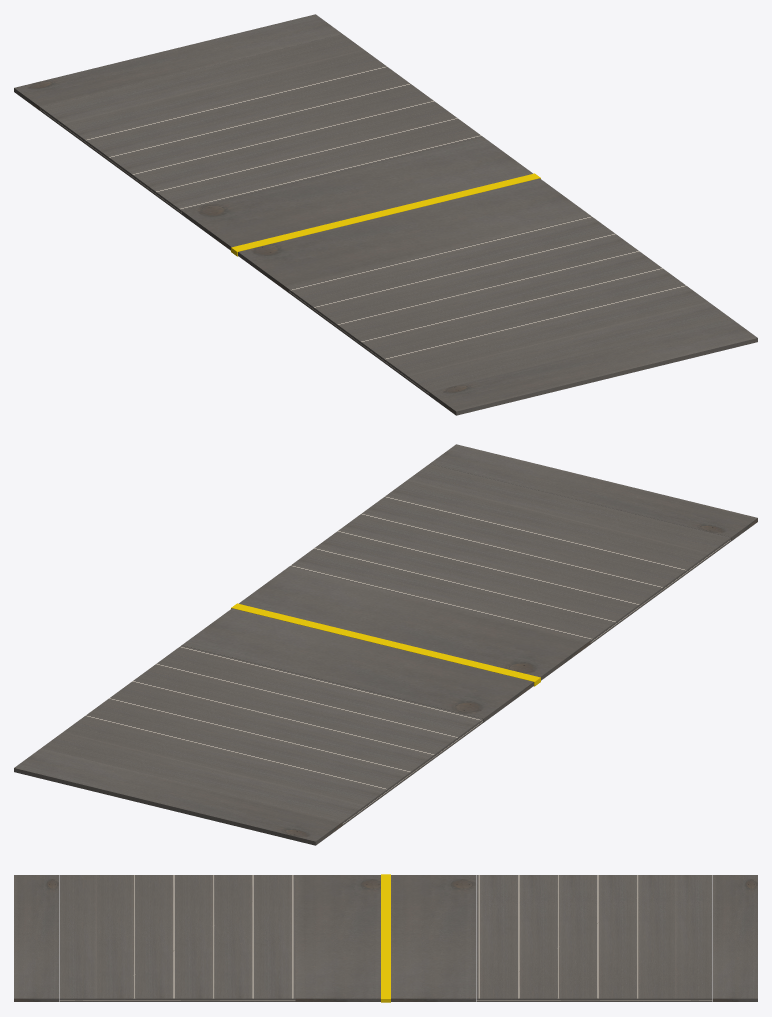
The model's file is roadwithline.fbx.
3 renders of one model, top to bottom at view 1: azimuth 30°, elevation 25°; view 2: azimuth 150°, elevation 25°; view 3: azimuth 270°, elevation 25°, orthographic. The views are drawn at different scales.
Parts seen in each view (by area): view 1: Road 2, Road 1, Road Middle; view 2: Road 1, Road 2, Road Middle; view 3: Road 1, Road 2, Road Middle.
Part boxes in pixels (x1=…): Road 2: x1=238, y1=178, x2=757, y2=415; Road 1: x1=14, y1=14, x2=532, y2=250; Road Middle: x1=231, y1=173, x2=540, y2=256; Road 1: x1=14, y1=608, x2=533, y2=845; Road 2: x1=239, y1=444, x2=757, y2=680; Road Middle: x1=231, y1=603, x2=540, y2=686; Road 1: x1=391, y1=875, x2=757, y2=1001; Road 2: x1=14, y1=875, x2=380, y2=1001; Road Middle: x1=381, y1=874, x2=390, y2=1002.
Bounding box in the file's own units: 773 × 11.34 × 1949.
Materials: 2 (1 with a texture image).
